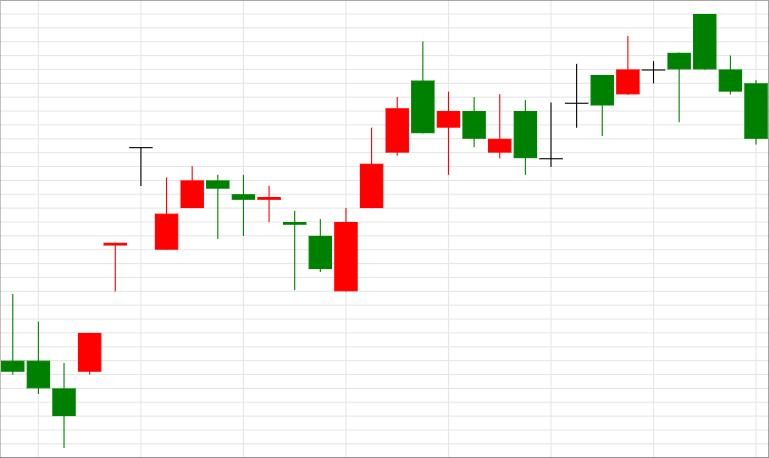bullish_engulfing_rise: (206, 175, 358, 292)
three_white_soldiers_rise: (206, 98, 409, 291)
